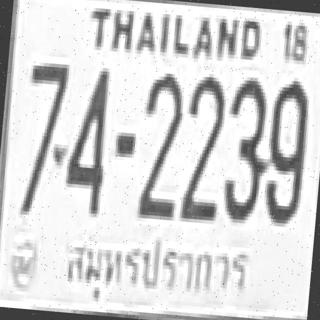N02: (136, 70, 185, 218), (179, 74, 227, 222)
N03: (220, 77, 270, 222)
N04: (64, 66, 112, 214)
N07: (18, 58, 68, 214)
N09: (263, 78, 311, 223)
P57: (59, 229, 255, 308)
